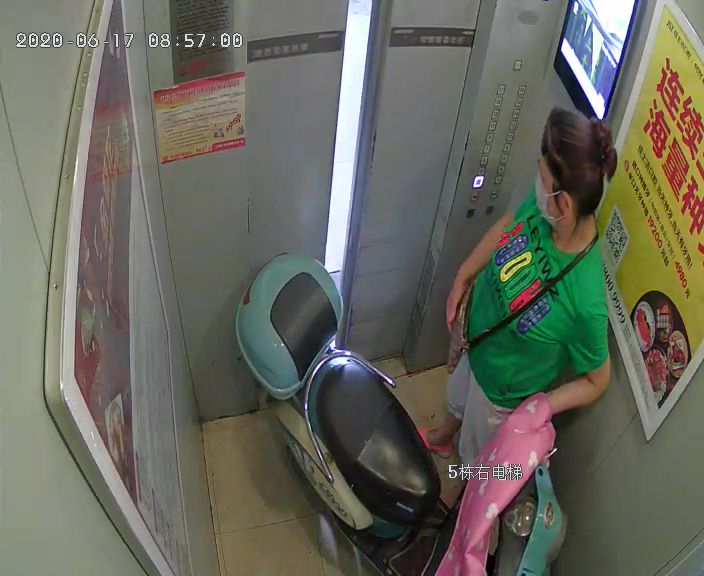Electric-bicycle: (236, 250, 570, 575)
